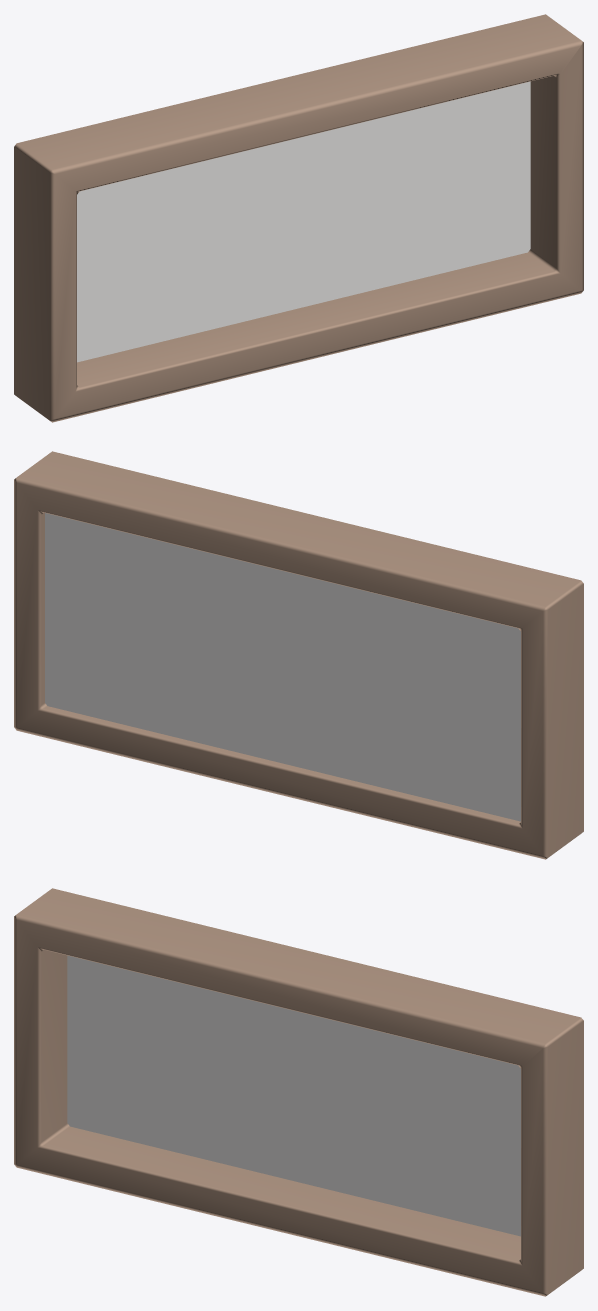
File: Window_10.glb
The picture shows the model from 3 angles, top to bottom: view 1: azimuth 30°, elevation 25°; view 2: azimuth 150°, elevation 25°; view 3: azimuth 330°, elevation 25°; orthographic projection.
Visible parts, largest first — view 1: Window_19; view 2: Window_19; view 3: Window_19.
Boxes of the visible parts, bbox=[...] form: Window_19: bbox=[14, 14, 583, 422]; Window_19: bbox=[14, 451, 583, 859]; Window_19: bbox=[14, 888, 583, 1296].
Bounding box in the file's own units: 3.93 × 1.78 × 0.4834.
Materials: 2 (2 with a texture image).
